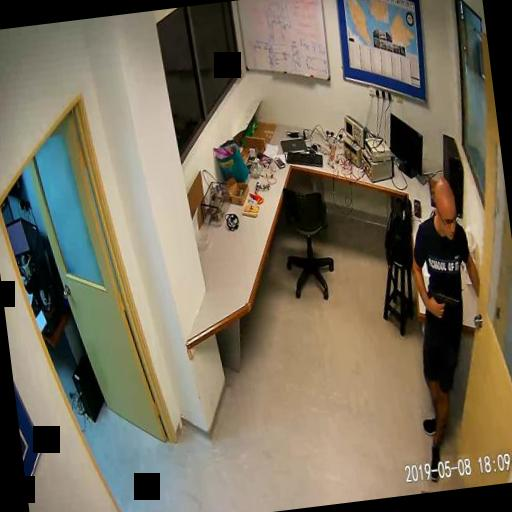Handgun: (430, 284, 461, 318)
